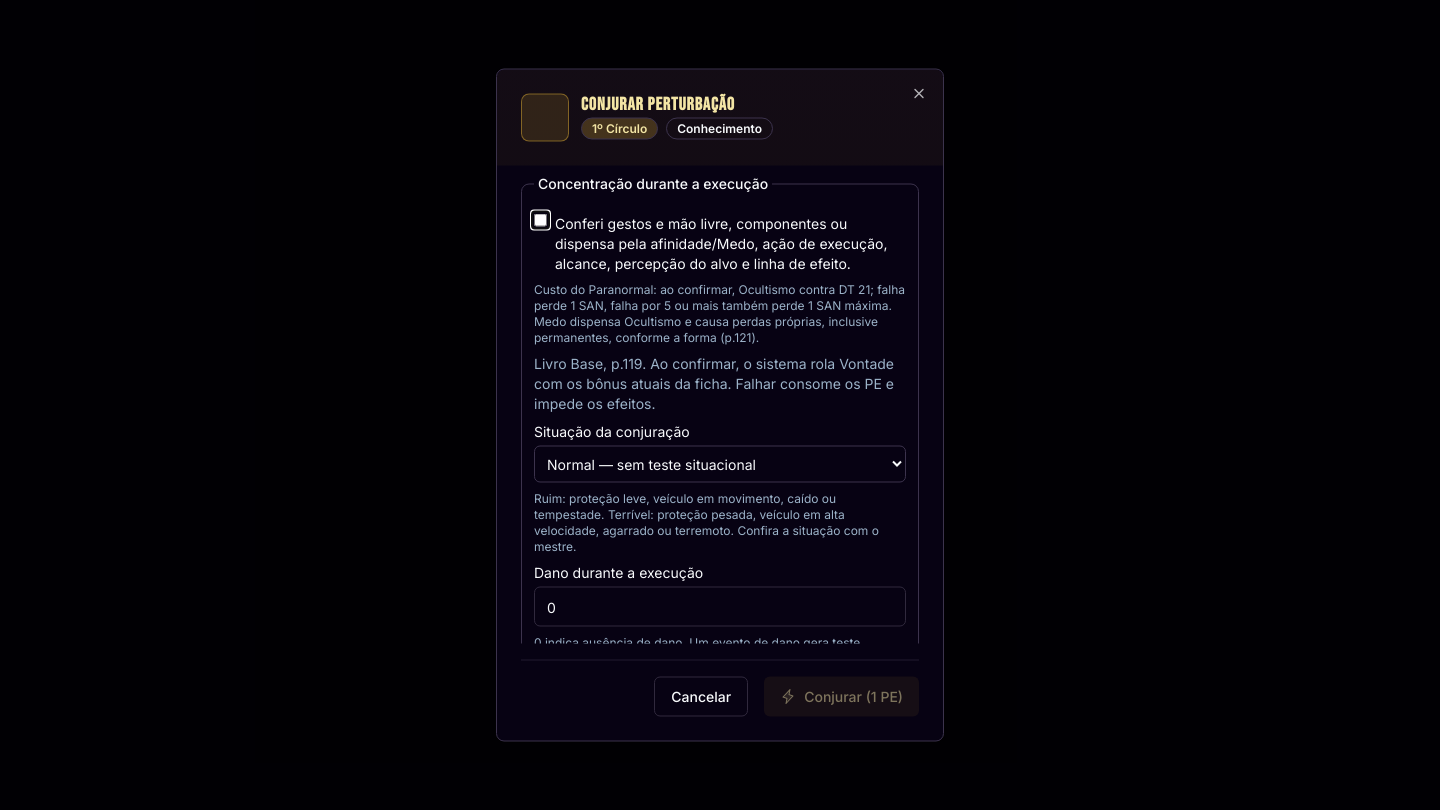
Modal de conjuração desktop › separa o saldo normal e permite usar PE temporários para conjurar
Click the checkbox labelled "Conferi gestos": (540, 220) [534,214,547,226]
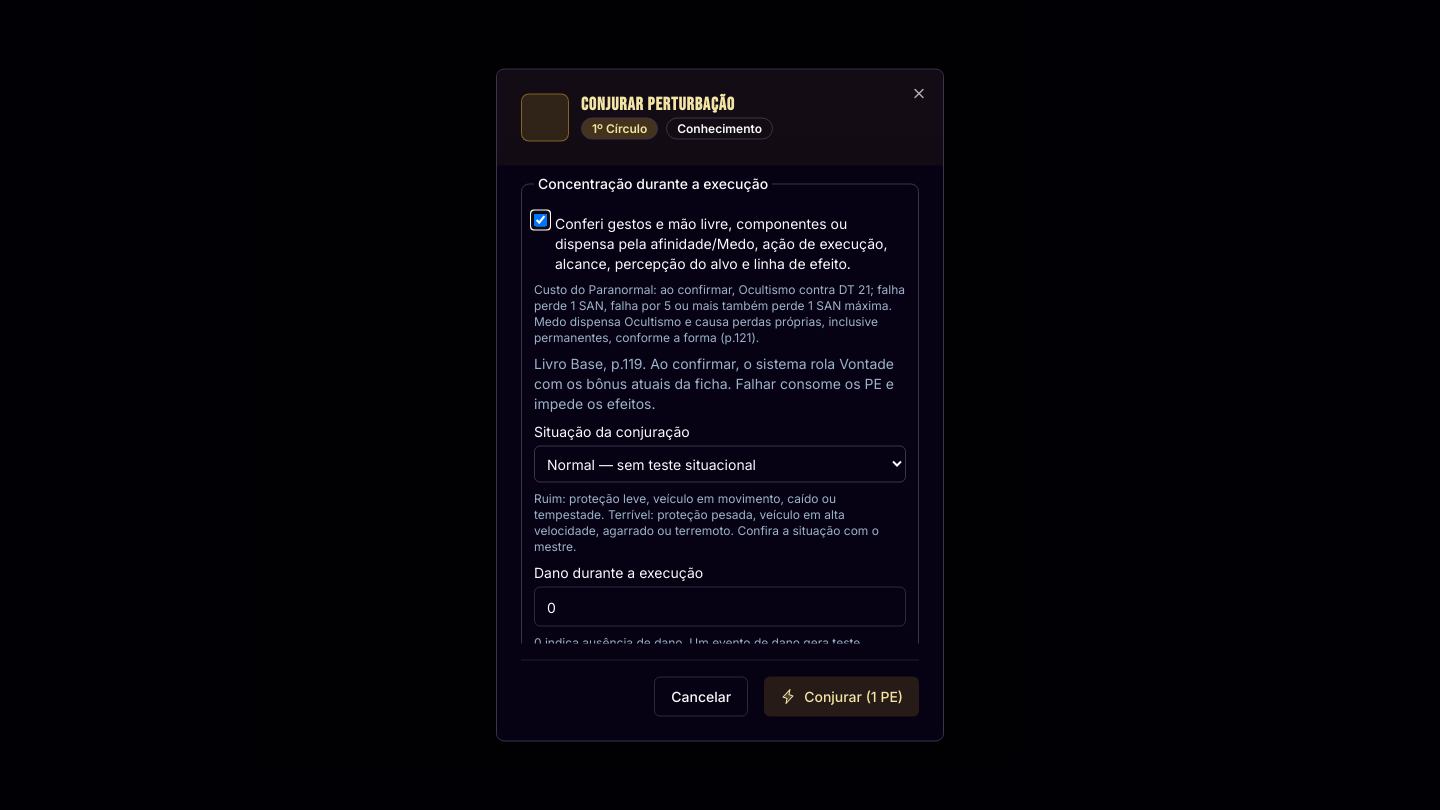
expect the button "Conjurar (1 PE)" is enabled: met, box [764,676,919,716]
